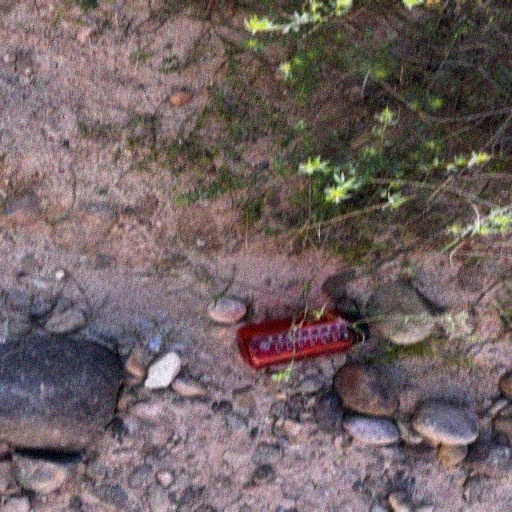bottle: (236, 297, 370, 369)
